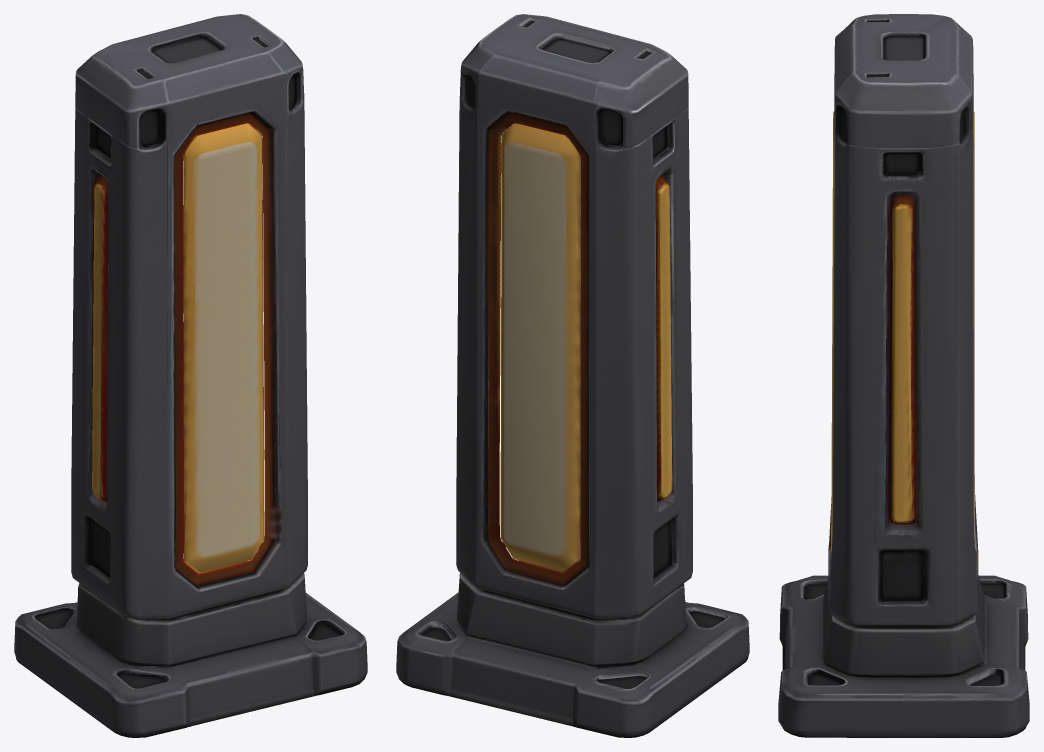
File: NetPost.glb
3 views of the same model, side by side, from view 1: azimuth 30°, elevation 25°; view 2: azimuth 150°, elevation 25°; view 3: azimuth 270°, elevation 25° (orthographic).
Parts seen in each view (by area): view 1: tripo_node_325d61e5-1f0c-4da0-8d13-c405bb4fdc73; view 2: tripo_node_325d61e5-1f0c-4da0-8d13-c405bb4fdc73; view 3: tripo_node_325d61e5-1f0c-4da0-8d13-c405bb4fdc73.
Part boxes in pixels (x1=…): tripo_node_325d61e5-1f0c-4da0-8d13-c405bb4fdc73: x1=14, y1=14, x2=367, y2=737; tripo_node_325d61e5-1f0c-4da0-8d13-c405bb4fdc73: x1=396, y1=14, x2=749, y2=737; tripo_node_325d61e5-1f0c-4da0-8d13-c405bb4fdc73: x1=778, y1=14, x2=1029, y2=737.
Size of the model in its own units: 0.4204 by 0.9995 by 0.3608.
1 material, 1 textured.
